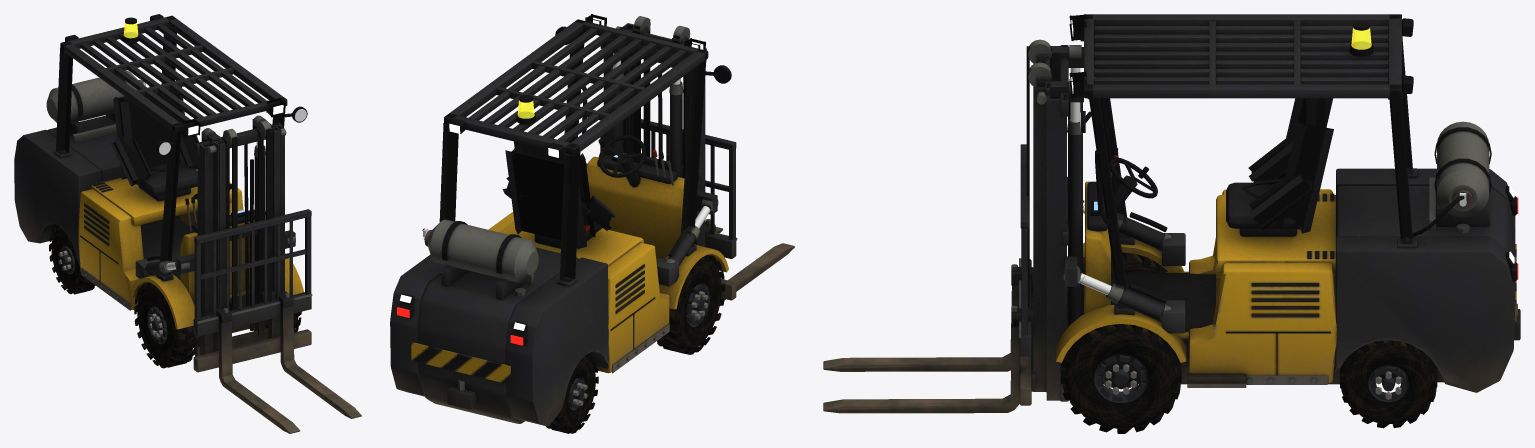
File: forklift-v1-lod0.glb
3 renders of one model, left to right at view 1: azimuth 30°, elevation 25°; view 2: azimuth 150°, elevation 25°; view 3: azimuth 270°, elevation 25°, orthographic. The views are drawn at different scales.
Visible parts, largest first — view 1: body, carriage_mesh, mast_inner_mesh, mast_mesh, wheel_FR_mesh, fork_L_mesh, fork_R_mesh, wheel_RR_mesh, lift_ram_L_barrel_mesh, fittings, tilt_ram_R_barrel_mesh; view 2: body, wheel_FR_mesh, carriage_mesh, mast_mesh, wheel_RR_mesh, mast_inner_mesh, lift_ram_R_barrel_mesh, fork_R_mesh, fittings, tilt_ram_R_barrel_mesh, lift_ram_L_barrel_mesh; view 3: body, wheel_FL_mesh, mast_inner_mesh, mast_mesh, wheel_RL_mesh, fork_L_mesh, fork_R_mesh, carriage_mesh, lift_ram_L_barrel_mesh, tilt_ram_L_barrel_mesh, tilt_ram_R_barrel_mesh, fittings (+1 smaller).
Boxes of the visible parts, <box> form: body: <box>14,14,307,332</box>; carriage_mesh: <box>193,209,312,372</box>; mast_inner_mesh: <box>201,119,286,351</box>; mast_mesh: <box>176,123,295,356</box>; wheel_FR_mesh: <box>134,282,197,368</box>; fork_L_mesh: <box>275,291,361,418</box>; fork_R_mesh: <box>216,306,300,433</box>; wheel_RR_mesh: <box>49,226,95,294</box>; lift_ram_L_barrel_mesh: <box>249,145,265,330</box>; fittings: <box>65,22,306,213</box>; tilt_ram_R_barrel_mesh: <box>144,256,173,275</box>; body: <box>390,14,731,426</box>; wheel_FR_mesh: <box>657,254,724,354</box>; carriage_mesh: <box>600,119,737,300</box>; mast_mesh: <box>586,40,717,304</box>; wheel_RR_mesh: <box>545,354,598,433</box>; mast_inner_mesh: <box>608,16,706,164</box>; lift_ram_R_barrel_mesh: <box>669,81,687,178</box>; fork_R_mesh: <box>705,219,794,300</box>; fittings: <box>397,17,703,345</box>; tilt_ram_R_barrel_mesh: <box>665,225,700,267</box>; lift_ram_L_barrel_mesh: <box>610,67,628,156</box>; body: <box>1056,14,1520,392</box>; wheel_FL_mesh: <box>1060,324,1181,433</box>; mast_inner_mesh: <box>1026,39,1083,392</box>; mast_mesh: <box>1046,45,1083,401</box>; wheel_RL_mesh: <box>1340,340,1437,428</box>; fork_L_mesh: <box>823,305,1035,413</box>; fork_R_mesh: <box>823,264,1033,371</box>; carriage_mesh: <box>1019,144,1033,405</box>; lift_ram_L_barrel_mesh: <box>1067,118,1082,326</box>; tilt_ram_L_barrel_mesh: <box>1106,283,1171,322</box>; tilt_ram_R_barrel_mesh: <box>1116,212,1171,251</box>; fittings: <box>1070,20,1518,279</box>.
Bounding box in the file's own units: 1.41 × 2.4 × 4.12.
10 materials, 2 textured.
